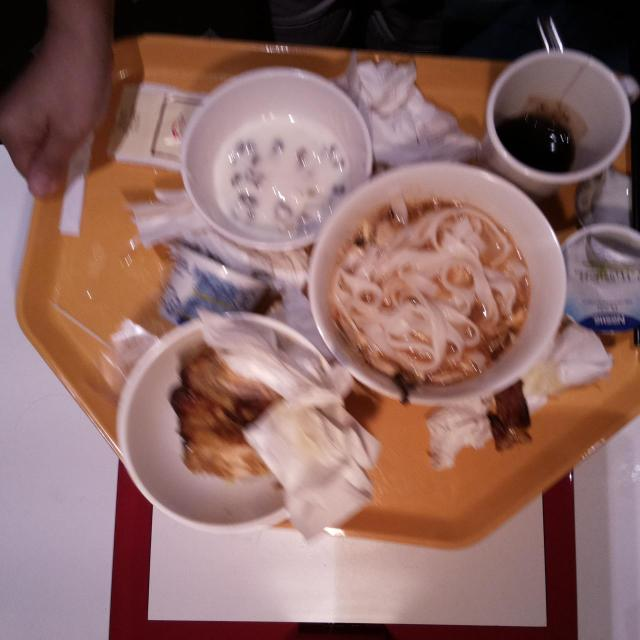Meat: (169, 393, 249, 478)
Noodle: (364, 215, 506, 369)
